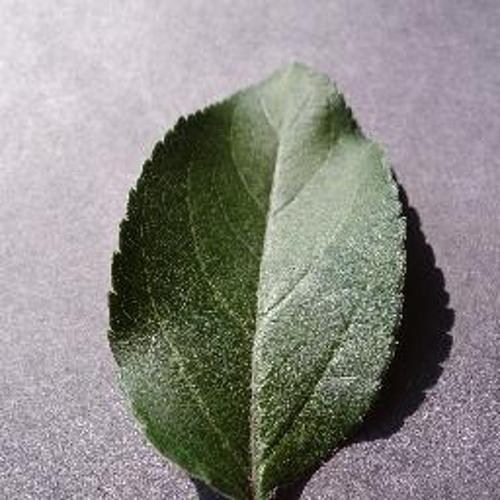Apple: (110, 64, 407, 500)
